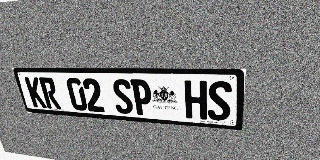0: (65, 78, 88, 111)
2: (82, 78, 105, 112)
H: (184, 80, 207, 120)
K: (24, 77, 47, 108)
P: (130, 79, 153, 116)
R: (38, 77, 61, 109)
S: (208, 81, 232, 121), (111, 79, 134, 114)
